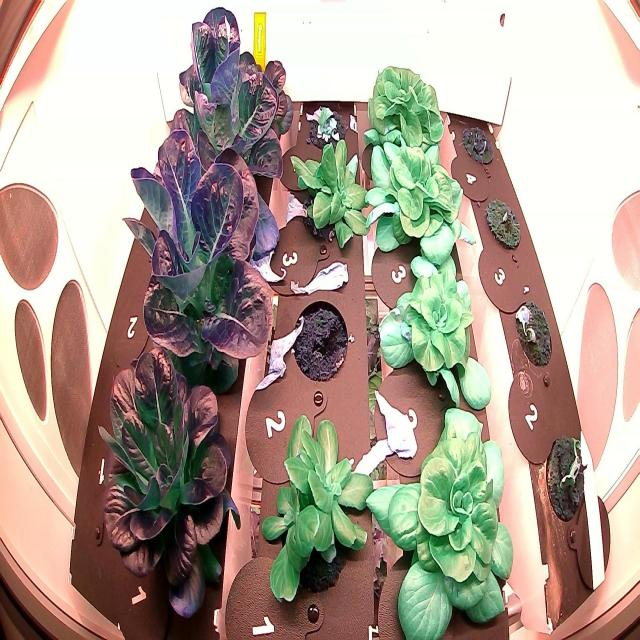Ready: (94, 326, 255, 634), (112, 115, 279, 405), (168, 0, 298, 215)
empty_pod: (81, 420, 130, 520), (104, 284, 156, 373)
young: (359, 394, 516, 640), (261, 408, 377, 608), (372, 236, 495, 414), (359, 122, 478, 275), (282, 131, 371, 258), (361, 52, 446, 156)
